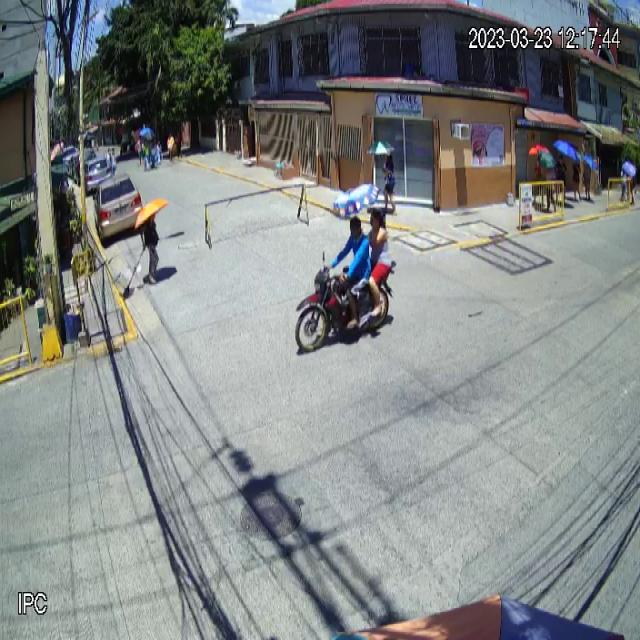Car: (93, 172, 142, 244)
Motorcycle: (294, 250, 397, 358)
